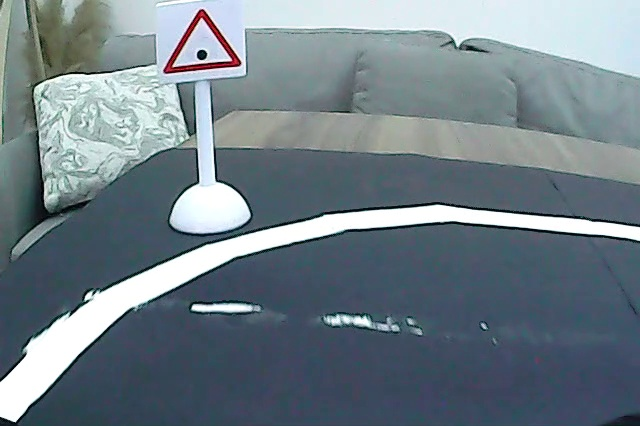green light: (158, 5, 245, 76)
